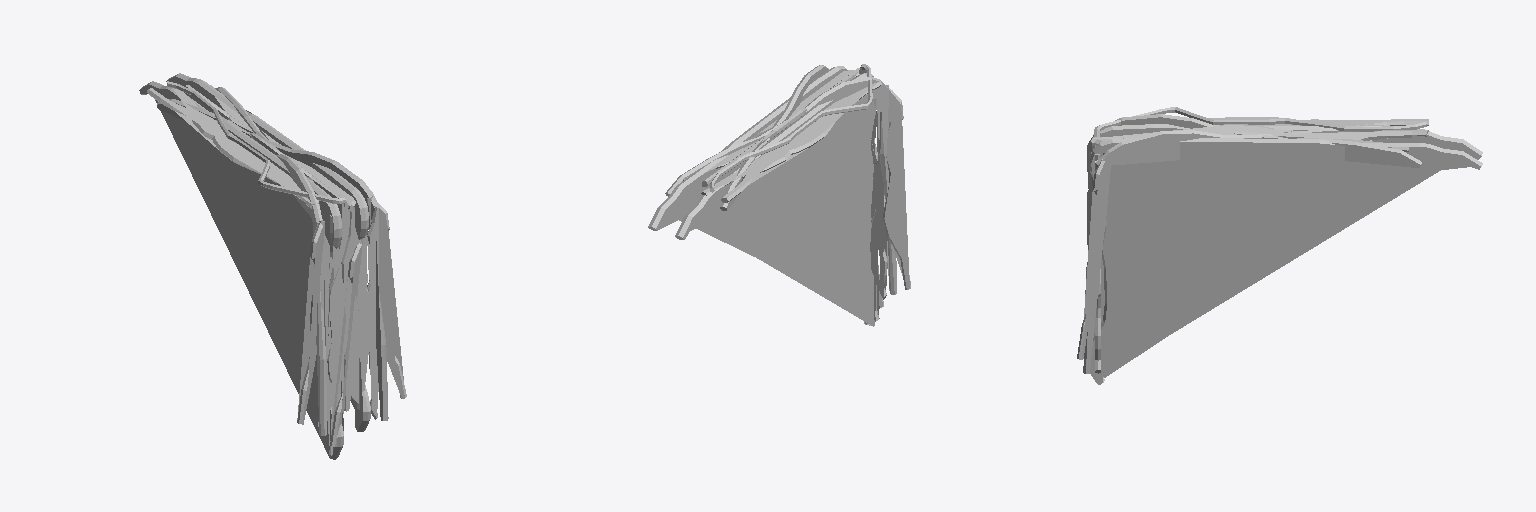
Rendered from vines.obj.
The picture shows the model from 3 angles: view 1: azimuth 30°, elevation 25°; view 2: azimuth 150°, elevation 25°; view 3: azimuth 270°, elevation 25°; orthographic projection.
Visible parts, largest first — view 1: Mesh2 Group2 Model, Mesh10 Group10 Model, Mesh1 Group1 Model, Mesh7 Group7 Model, Mesh4 Group4 Model, Mesh9 Group9 Model, Mesh3 Group3 Model, Mesh17 Group17 Model, Mesh6 Group6 Model, Mesh11 Group11 Model, Mesh12 Group12 Model, Mesh8 Group8 Model (+5 smaller); view 2: Mesh2 Group2 Model, Mesh3 Group3 Model, Mesh10 Group10 Model, Mesh4 Group4 Model, Mesh17 Group17 Model, Mesh1 Group1 Model, Mesh5 Group5 Model, Mesh7 Group7 Model, Mesh19 Group19 Model, Mesh16 Group16 Model; view 3: Mesh10 Group10 Model, Mesh7 Group7 Model, Mesh4 Group4 Model, Mesh2 Group2 Model, Mesh9 Group9 Model, Mesh18 Group18 Model, Mesh1 Group1 Model, Mesh17 Group17 Model.
Part boxes in pixels (bbox=[...]): Mesh2 Group2 Model: bbox=[139, 81, 343, 459]; Mesh10 Group10 Model: bbox=[166, 73, 370, 431]; Mesh1 Group1 Model: bbox=[167, 81, 349, 455]; Mesh7 Group7 Model: bbox=[157, 99, 388, 420]; Mesh4 Group4 Model: bbox=[215, 87, 326, 435]; Mesh9 Group9 Model: bbox=[367, 196, 406, 398]; Mesh3 Group3 Model: bbox=[297, 221, 324, 424]; Mesh17 Group17 Model: bbox=[147, 88, 319, 205]; Mesh6 Group6 Model: bbox=[367, 206, 378, 419]; Mesh11 Group11 Model: bbox=[341, 210, 358, 411]; Mesh12 Group12 Model: bbox=[330, 240, 362, 446]; Mesh8 Group8 Model: bbox=[357, 235, 371, 409]; Mesh2 Group2 Model: bbox=[675, 73, 876, 326]; Mesh3 Group3 Model: bbox=[883, 85, 910, 289]; Mesh10 Group10 Model: bbox=[648, 66, 847, 256]; Mesh4 Group4 Model: bbox=[665, 77, 896, 294]; Mesh17 Group17 Model: bbox=[721, 83, 874, 202]; Mesh1 Group1 Model: bbox=[710, 64, 879, 321]; Mesh5 Group5 Model: bbox=[873, 111, 887, 299]; Mesh7 Group7 Model: bbox=[720, 65, 828, 210]; Mesh19 Group19 Model: bbox=[683, 68, 859, 180]; Mesh16 Group16 Model: bbox=[701, 80, 881, 195]; Mesh10 Group10 Model: bbox=[1089, 138, 1482, 377]; Mesh7 Group7 Model: bbox=[1083, 126, 1396, 373]; Mesh4 Group4 Model: bbox=[1085, 114, 1421, 293]; Mesh2 Group2 Model: bbox=[1089, 124, 1482, 384]; Mesh9 Group9 Model: bbox=[1077, 153, 1105, 359]; Mesh18 Group18 Model: bbox=[1092, 124, 1411, 145]; Mesh1 Group1 Model: bbox=[1094, 107, 1426, 136]; Mesh17 Group17 Model: bbox=[1209, 117, 1428, 125].
Bounding box in the file's own units: 1.74 × 4.42 × 6.07.